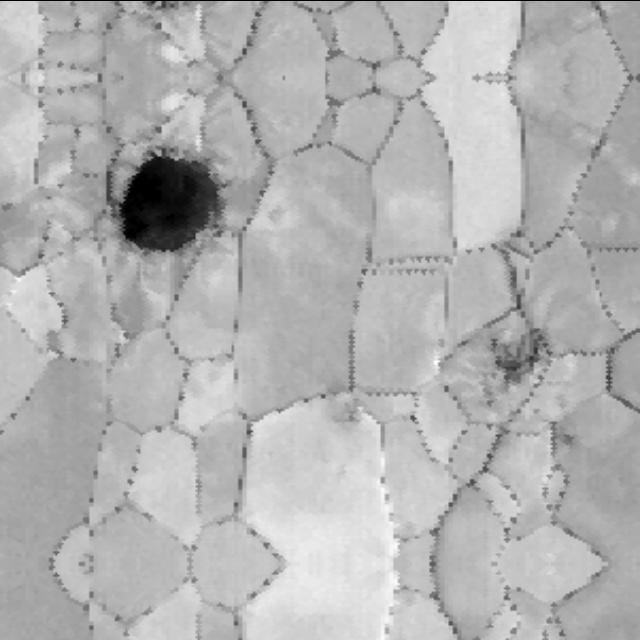good_void: (114, 139, 229, 266), (470, 328, 545, 412), (322, 381, 366, 429), (559, 425, 580, 446), (119, 324, 136, 343)
